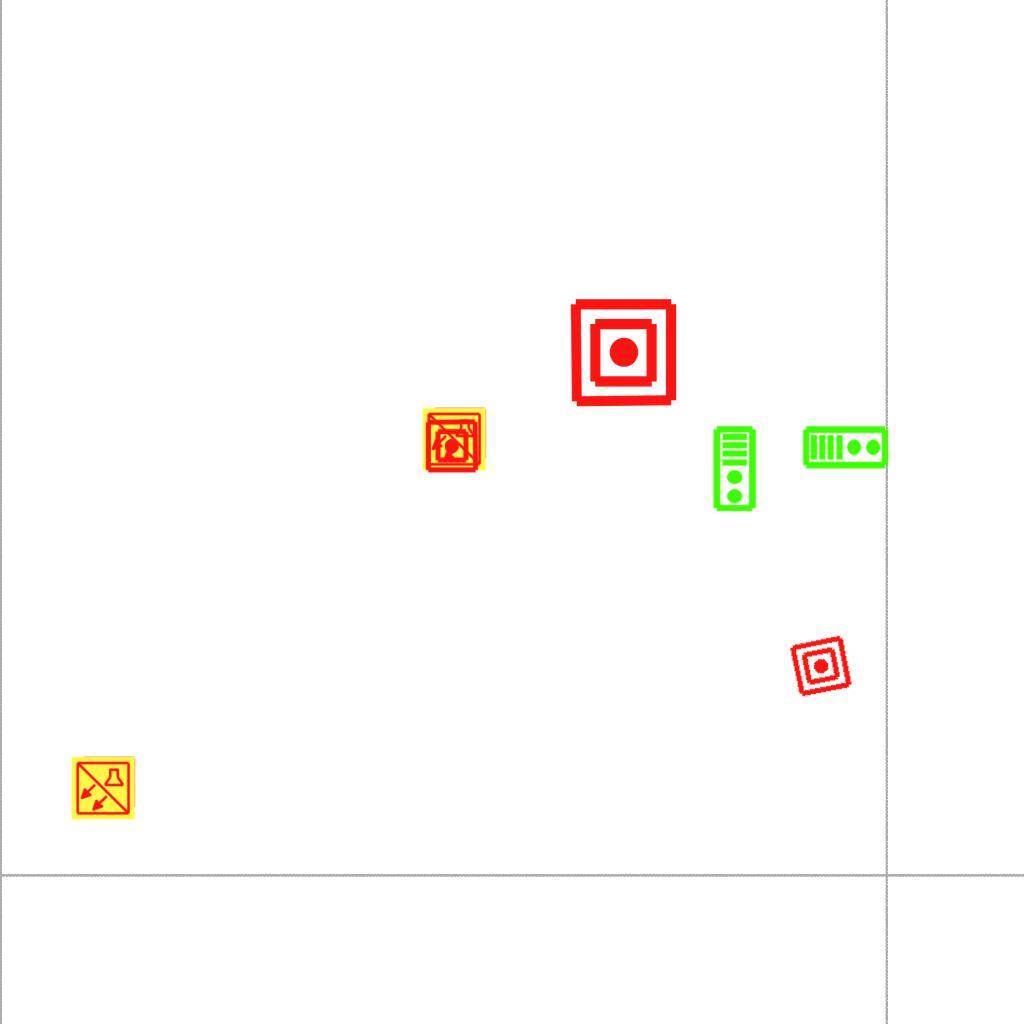Gegensprechanlage_mit_Video: (712, 425, 759, 513), (802, 423, 890, 470)
NAM-Nichtautomatischer_Melder: (567, 296, 680, 409), (788, 633, 854, 699), (424, 418, 480, 474)
OKW_Multisensormelder_(Kombination_optischer_Rauch-Kahlenmonoxid_Waerme-Melder): (70, 755, 136, 821), (421, 406, 487, 472)
